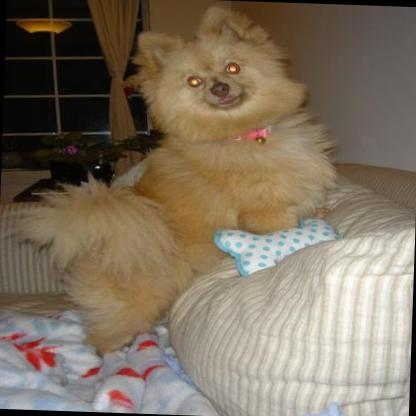Pomeranian: (10, 0, 340, 362)
